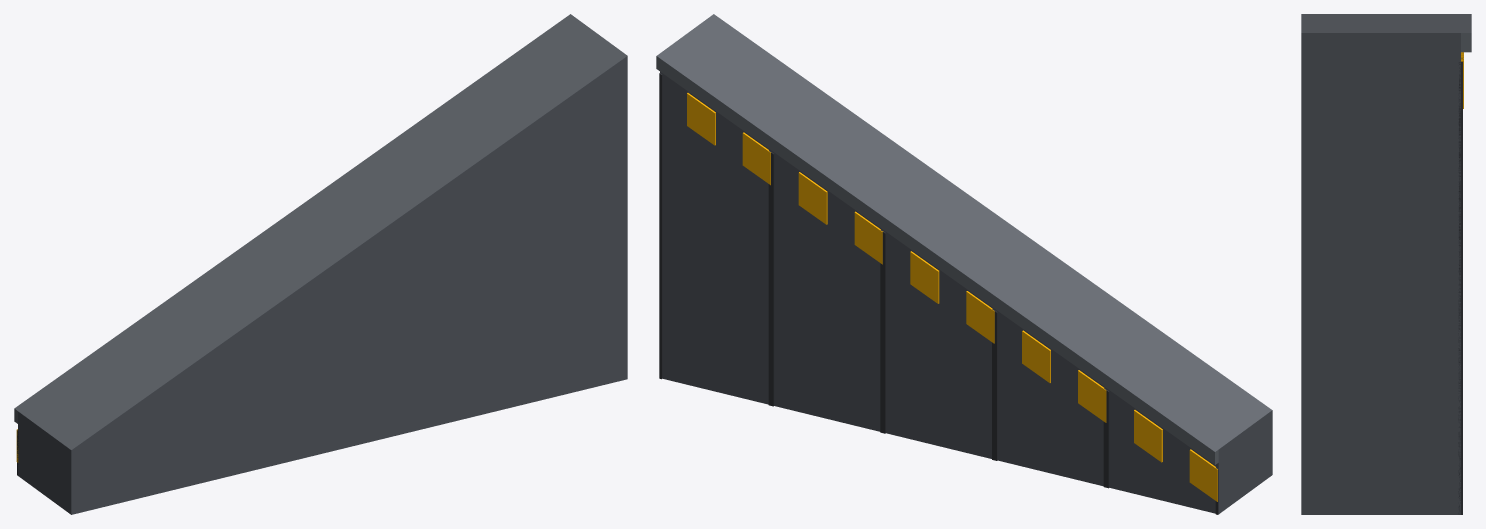
The picture shows the model from 3 angles, left to right: view 1: azimuth 30°, elevation 25°; view 2: azimuth 150°, elevation 25°; view 3: azimuth 270°, elevation 25°; orthographic projection. The views are drawn at different scales.
Parts seen in each view (by area): view 1: b2w; view 2: b2w; view 3: b2w.
Part boxes in pixels (bbox=[...]): b2w: bbox=[14, 14, 627, 514]; b2w: bbox=[656, 14, 1272, 514]; b2w: bbox=[1301, 14, 1471, 514].
Size of the model in its own units: 9 by 5 by 1.6.
